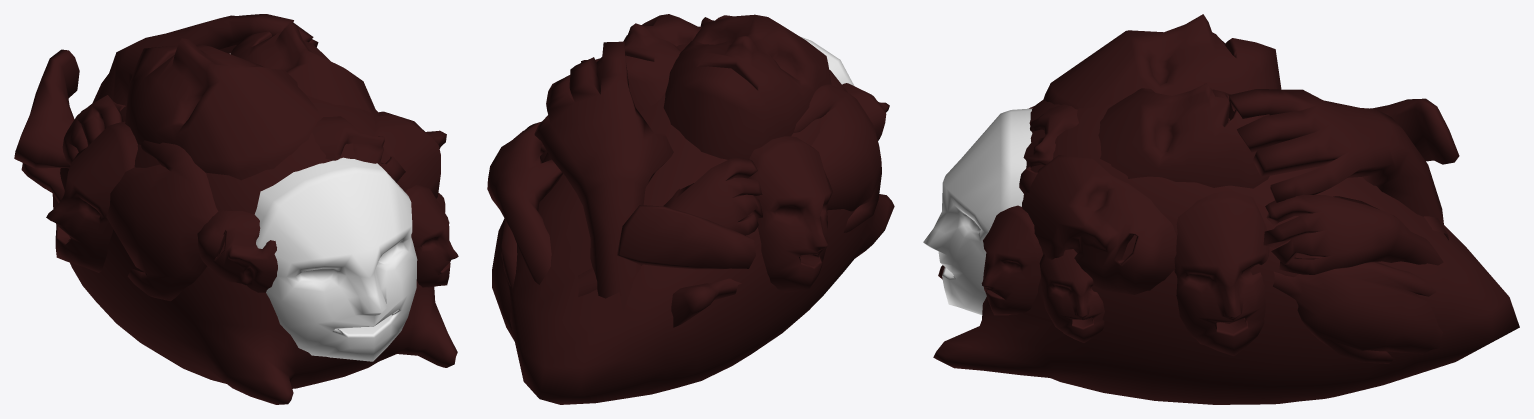
File: GayRocket.fbx
3 renders of one model, left to right at view 1: azimuth 30°, elevation 25°; view 2: azimuth 150°, elevation 25°; view 3: azimuth 270°, elevation 25°, orthographic. The views are drawn at different scales.
Visible parts, largest first — view 1: GayRocket; view 2: GayRocket; view 3: GayRocket.
Part boxes in pixels (left/top/right/bottom): GayRocket: left=14, top=14, right=458, bottom=404; GayRocket: left=487, top=14, right=894, bottom=404; GayRocket: left=923, top=14, right=1519, bottom=404.
Bounding box in the file's own units: 136 × 131 × 206.
